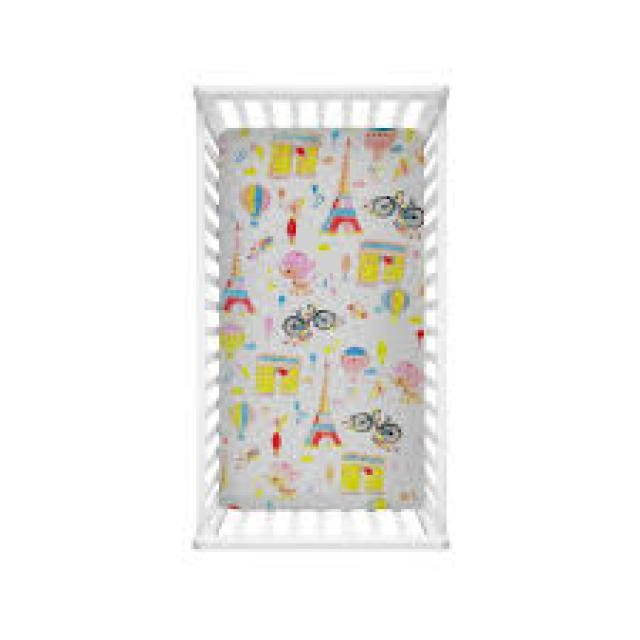crib: (188, 80, 449, 549)
